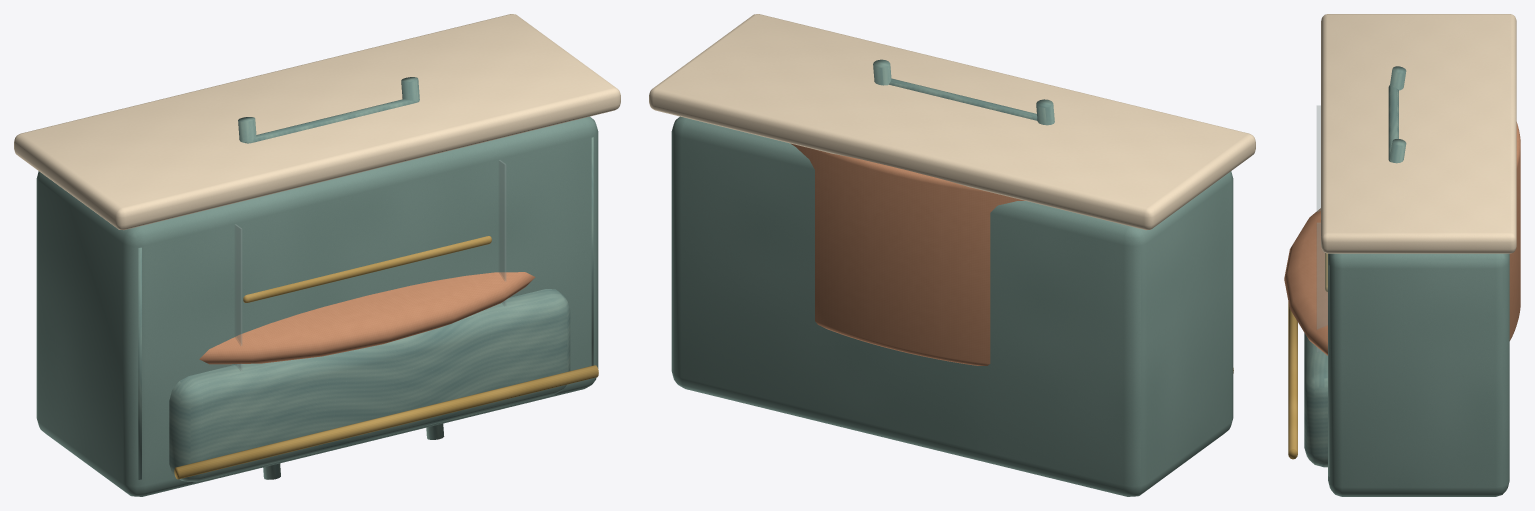
File: tidy-life-bakery.glb
3 renders of one model, left to right at view 1: azimuth 30°, elevation 25°; view 2: azimuth 150°, elevation 25°; view 3: azimuth 270°, elevation 25°, orthographic. The views are drawn at different scales.
Visible parts, largest first — view 1: life_bakery_cafecounter_mesh, life_bakery_booth_mesh, life_bakery_pastrycase_mesh, life_bakery_menueasel_mesh; view 2: life_bakery_cafecounter_mesh, life_bakery_booth_mesh, life_bakery_menueasel_mesh; view 3: life_bakery_cafecounter_mesh, life_bakery_booth_mesh, life_bakery_pastrycase_mesh, life_bakery_menueasel_mesh.
Part boxes in pixels (<box>): life_bakery_cafecounter_mesh: <box>14,14,620,496</box>; life_bakery_booth_mesh: <box>169,272,570,482</box>; life_bakery_pastrycase_mesh: <box>235,160,505,370</box>; life_bakery_menueasel_mesh: <box>238,77,444,479</box>; life_bakery_cafecounter_mesh: <box>649,14,1255,496</box>; life_bakery_booth_mesh: <box>791,143,1024,365</box>; life_bakery_menueasel_mesh: <box>873,59,1054,125</box>; life_bakery_cafecounter_mesh: <box>1288,14,1516,496</box>; life_bakery_booth_mesh: <box>1284,122,1520,467</box>; life_bakery_pastrycase_mesh: <box>1317,105,1327,351</box>; life_bakery_menueasel_mesh: <box>1388,66,1406,163</box>.
Bounding box in the file's own units: 0.65 × 0.42 × 0.29.
9 materials, 9 textured.
